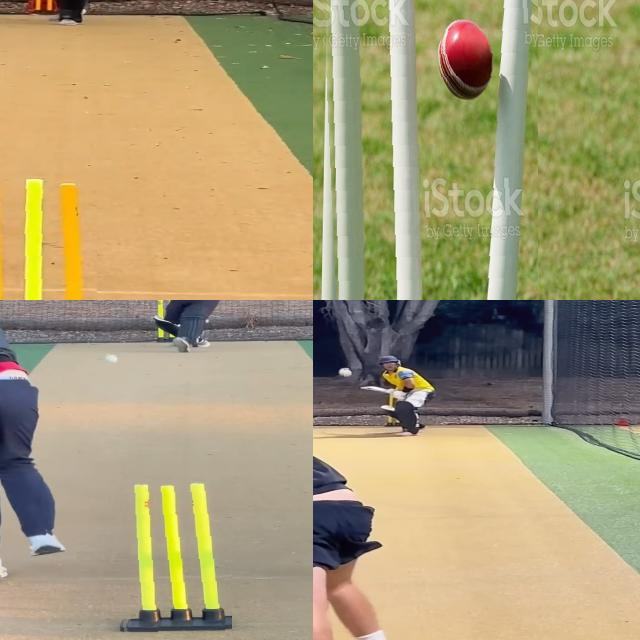Cricket ball: (428, 13, 490, 113), (103, 352, 121, 363), (338, 368, 353, 377)
Stumps: (318, 0, 538, 300), (117, 481, 232, 635), (0, 177, 96, 300), (152, 300, 184, 344)
